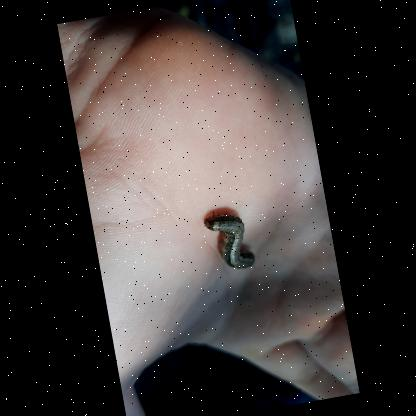Fall Armyworm Larvae: (199, 204, 259, 276)
